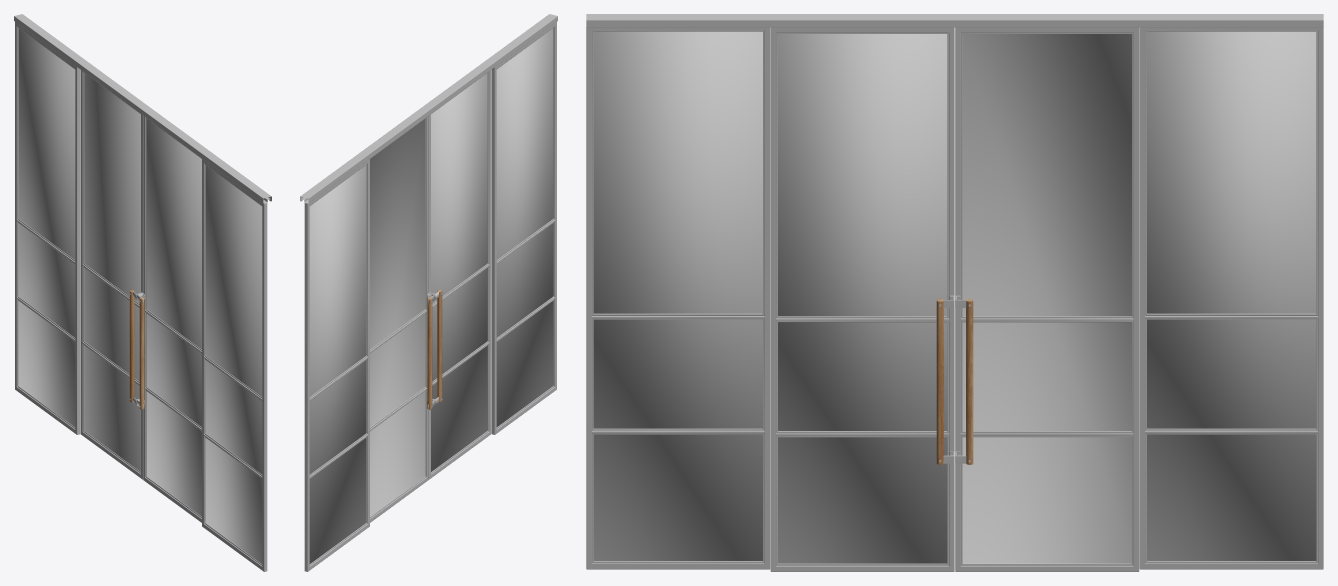
Rendered from door_main.fbx.
The picture shows the model from 3 angles, left to right: view 1: azimuth 30°, elevation 25°; view 2: azimuth 150°, elevation 25°; view 3: azimuth 270°, elevation 25°; orthographic projection. The views are drawn at different scales.
Parts seen in each view (by area): view 1: Glass_3.001, Glass_3.004, Glass_3.003, door_main, door_leaf_2, door_leaf_1; view 2: Glass_3.001, Glass_3.003, Glass_3.004, door_main, door_leaf_1, door_leaf_2; view 3: Glass_3.001, Glass_3.004, Glass_3.003, door_main, door_leaf_1, door_leaf_2.
Part boxes in pixels (x1,y1,x2,y2): Glass_3.001: (18, 28, 262, 563); Glass_3.004: (146, 119, 201, 516); Glass_3.003: (84, 73, 140, 471); door_main: (14, 14, 271, 571); door_leaf_2: (80, 70, 143, 479); door_leaf_1: (137, 116, 201, 522); Glass_3.001: (309, 28, 553, 563); Glass_3.003: (370, 119, 425, 516); Glass_3.004: (431, 73, 487, 471); door_main: (300, 14, 557, 571); door_leaf_1: (428, 70, 491, 479); door_leaf_2: (370, 116, 434, 522); Glass_3.001: (593, 31, 1316, 560); Glass_3.004: (778, 34, 947, 563); Glass_3.003: (962, 34, 1131, 563); door_main: (586, 14, 1323, 569); door_leaf_1: (770, 27, 954, 571); door_leaf_2: (955, 27, 1139, 571).
Size of the model in its own units: 18.31 by 331 by 400.
